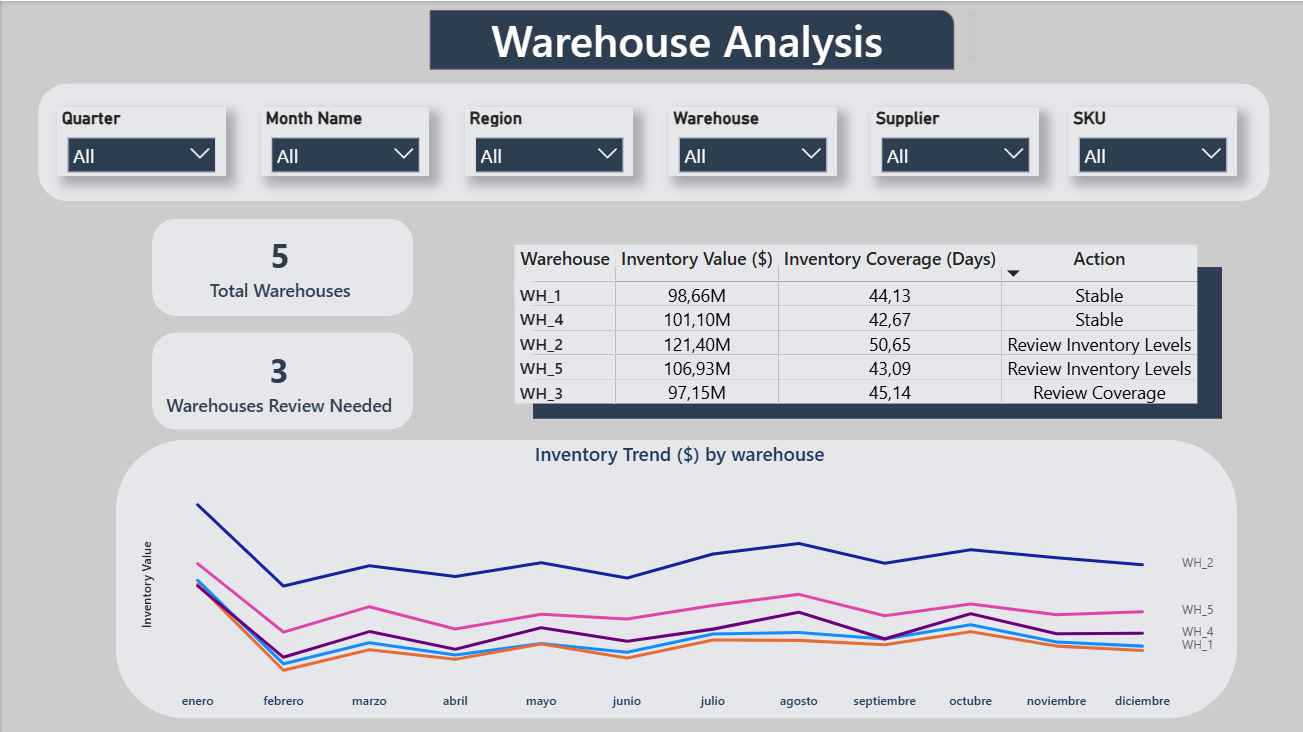

The dashboard page shown, as its layout file describes it:
{"tool":"powerbi","page":{"name":"Warehouse Analysis","canvas":[1280,720],"ordinal":2},"visuals":[{"type":"shape","box":[521.5,261.4,676.1,148.5],"z":0},{"type":"shape","box":[147.2,213.5,256.4,95.7],"z":1000},{"type":"shape","box":[111.7,430.7,1100.6,273.6],"z":2000},{"type":"shape","box":[419.6,8.6,515.3,58.9],"z":3000},{"type":"textbox","box":[474.8,3.7,485.9,63.8],"z":4000},{"type":"shape","box":[35.6,81,1208.6,115.3],"z":5000},{"type":"slicer","title":"Month Name ","fields":{"Values":["date_table.Month Name"]},"box":[254,104.3,165.6,67.5],"z":6000},{"type":"slicer","title":"Quarter","fields":{"Values":["date_table.Quarter & Year"]},"box":[54,104.3,165.6,67.5],"z":7000},{"type":"slicer","title":"Region","fields":{"Values":["supply_chain.region"]},"box":[454,104.3,165.6,67.5],"z":8000},{"type":"slicer","title":"Warehouse","fields":{"Values":["supply_chain.warehouse_id"]},"box":[654,104.3,165.6,67.5],"z":9000},{"type":"slicer","title":"Supplier","fields":{"Values":["supply_chain.supplier_id"]},"box":[852.8,104.3,165.6,67.5],"z":10000},{"type":"slicer","title":"SKU","fields":{"Values":["supply_chain.sku_id"]},"box":[1046.6,104.3,165.6,67.5],"z":11000},{"type":"lineChart","title":"Inventory Trend ($) by warehouse","fields":{"Y":["Measure_Table.Total Inventory Value"],"Series":["supply_chain.warehouse_id"],"Category":["date_table.Month Name"]},"box":[132.5,431.9,1065,273.6],"z":12000},{"type":"pivotTable","fields":{"Rows":["supply_chain.warehouse_id"],"Values":["Sum(supply_chain.inventory_value)","Avg(supply_chain.inventory_coverage)","Measure_Table.Action Warehouse"]},"box":[498.2,234.4,692,211],"z":13000},{"type":"cardVisual","fields":{"Data":["Measure_Table.Total Warehouses"]},"box":[137.4,185.3,271.2,150.9],"z":14000},{"type":"shape","box":[147.2,325.2,256.4,95.7],"z":15000},{"type":"cardVisual","fields":{"Data":["Measure_Table.Warehouses Review Needed"]},"box":[125.2,298.2,294.5,150.9],"z":16000}]}

Visuals, with their boxes in screenshot pixels (x1, y1, x2, y2), scaled from the page's 1280x720 canvas onto the 1303x732 screenshot:
shape: 531:266:1219:417
shape: 150:217:411:314
shape: 114:438:1234:716
shape: 427:9:952:69
textbox: 483:4:978:69
shape: 36:82:1267:200
"Month Name " slicer: 259:106:427:175
"Quarter" slicer: 55:106:224:175
"Region" slicer: 462:106:631:175
"Warehouse" slicer: 666:106:834:175
"Supplier" slicer: 868:106:1037:175
"SKU" slicer: 1065:106:1234:175
"Inventory Trend ($) by warehouse" lineChart: 135:439:1219:717
pivotTable - supply_chain.warehouse_id x Sum(supply_chain.inventory_value): 507:238:1212:453
cardVisual - Measure_Table.Total Warehouses: 140:188:416:342
shape: 150:331:411:428
cardVisual - Measure_Table.Warehouses Review Needed: 127:303:427:457
